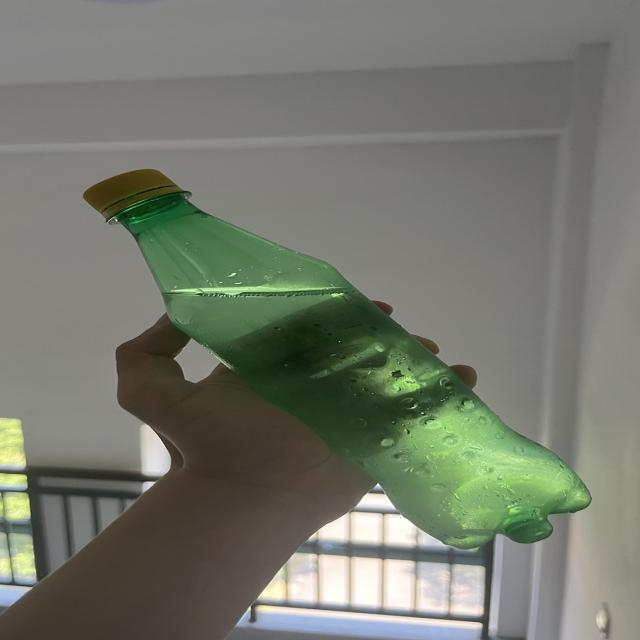high: (83, 170, 589, 548)
